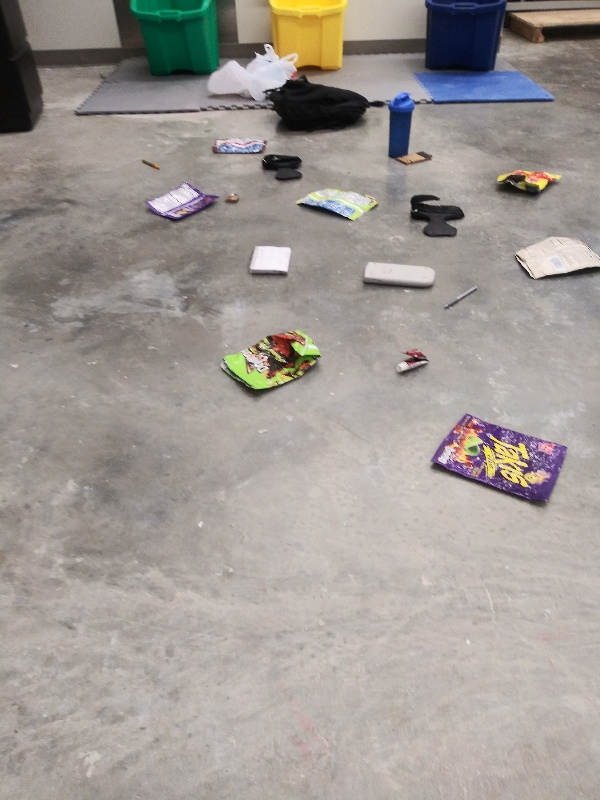bag: (425, 407, 571, 512), (215, 322, 328, 400), (506, 232, 600, 284), (139, 173, 221, 227), (291, 180, 385, 225), (485, 165, 566, 202), (203, 135, 272, 159)
